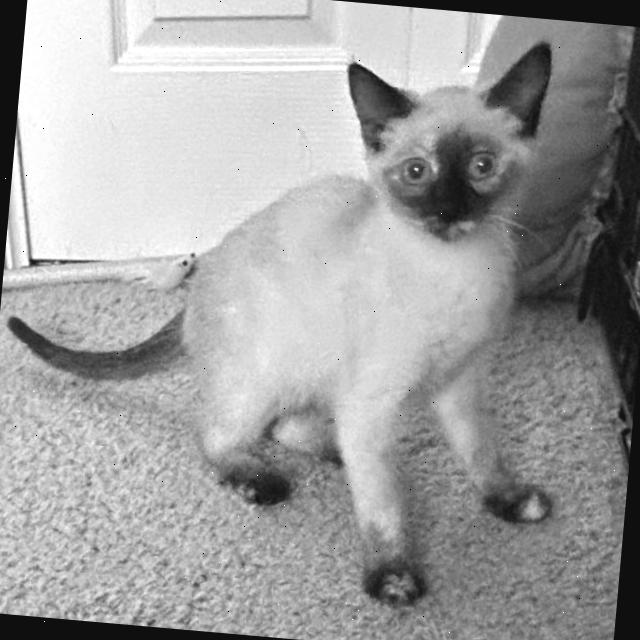siamese_cat: (324, 17, 564, 263)
